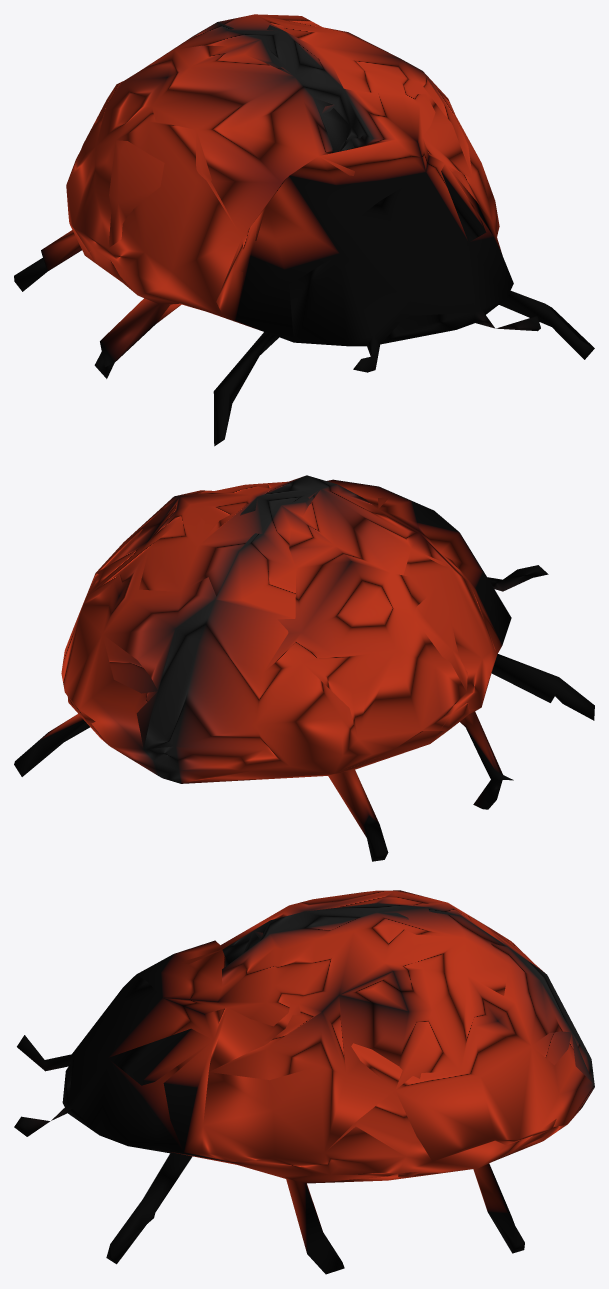
The model's file is gen3d-ladybug-lod1.glb.
3 renders of one model, top to bottom at view 1: azimuth 30°, elevation 25°; view 2: azimuth 150°, elevation 25°; view 3: azimuth 270°, elevation 25°, orthographic.
Visible parts, largest first — view 1: part_0; view 2: part_0; view 3: part_0.
Part boxes in pixels (x1,y1,x2,y2): part_0: (14, 14, 594, 446); part_0: (14, 475, 594, 861); part_0: (14, 890, 594, 1274).
Size of the model in its own units: 1.51 by 1 by 1.9.
